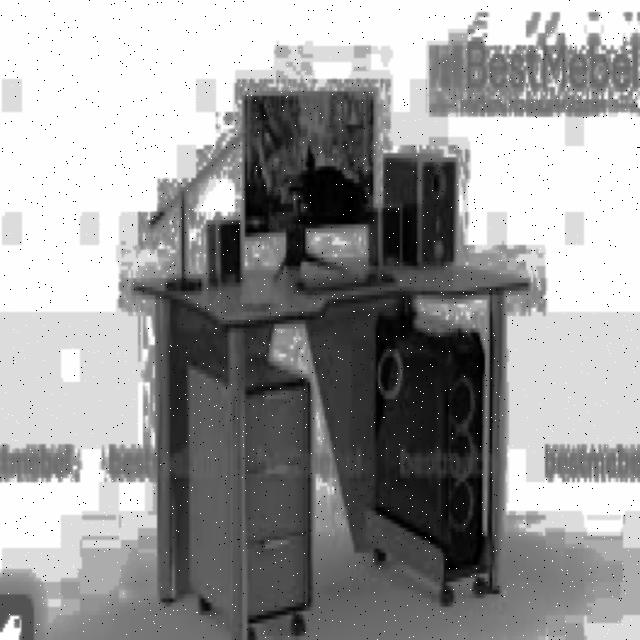paper: (195, 226, 249, 288), (366, 216, 412, 278)
table: (117, 274, 568, 640)
